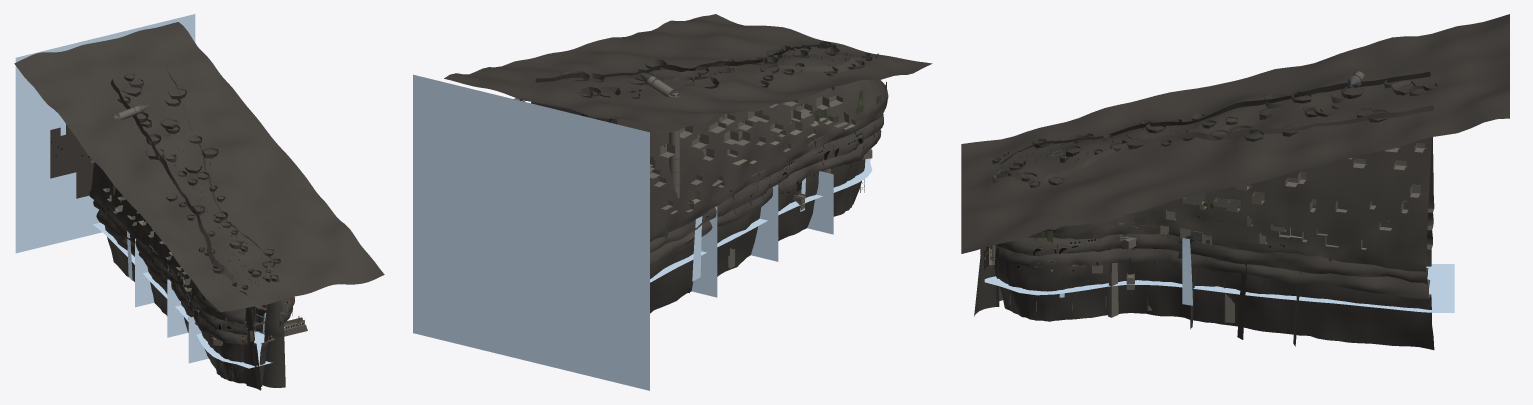
The model's file is DL-09_Atrium.gltf.
The picture shows the model from 3 angles, left to right: view 1: azimuth 30°, elevation 25°; view 2: azimuth 150°, elevation 25°; view 3: azimuth 270°, elevation 25°; orthographic projection. The views are drawn at different scales.
Parts seen in each view (by area): view 1: AtriumRock, AtriumMist, AtriumSkyline, AtriumMasonry, AtriumSheet, D5FarTiers; view 2: AtriumMist, AtriumRock, AtriumMasonry, AtriumHomes, AtriumVines, AtriumCutStone; view 3: AtriumRock, AtriumMist, AtriumMasonry, AtriumCutBridgeMasonry, AtriumVines, AtriumHomes, AtriumCutStone.
Part boxes in pixels (x1=…): AtriumRock: x1=14, y1=22, x2=384, y2=390; AtriumMist: x1=15, y1=14, x2=272, y2=368; AtriumSkyline: x1=50, y1=124, x2=94, y2=198; AtriumMasonry: x1=91, y1=105, x2=240, y2=356; AtriumSheet: x1=120, y1=105, x2=288, y2=379; D5FarTiers: x1=284, y1=316, x2=307, y2=336; AtriumMist: x1=413, y1=74, x2=872, y2=390; AtriumRock: x1=444, y1=14, x2=932, y2=313; AtriumMasonry: x1=514, y1=76, x2=848, y2=268; AtriumHomes: x1=670, y1=109, x2=878, y2=213; AtriumVines: x1=660, y1=46, x2=886, y2=241; AtriumCutStone: x1=523, y1=78, x2=883, y2=209; AtriumRock: x1=961, y1=14, x2=1509, y2=349; AtriumMist: x1=984, y1=238, x2=1454, y2=312; AtriumMasonry: x1=1092, y1=71, x2=1424, y2=323; AtriumCutBridgeMasonry: x1=1108, y1=223, x2=1136, y2=317; AtriumVines: x1=995, y1=106, x2=1331, y2=261; AtriumHomes: x1=1055, y1=209, x2=1366, y2=249; AtriumCutStone: x1=987, y1=74, x2=1426, y2=289.
Size of the model in its own units: 195 by 200 by 384.
